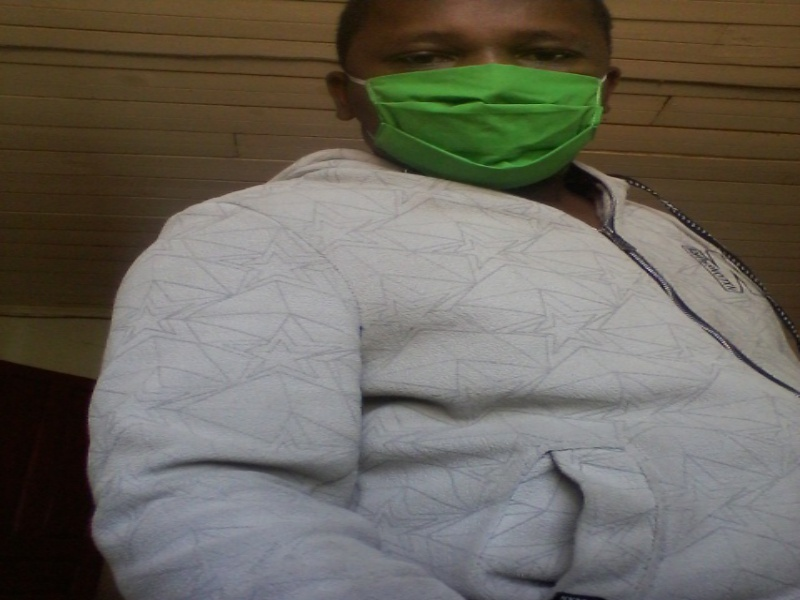ManaoArotava: (297, 1, 650, 197)
